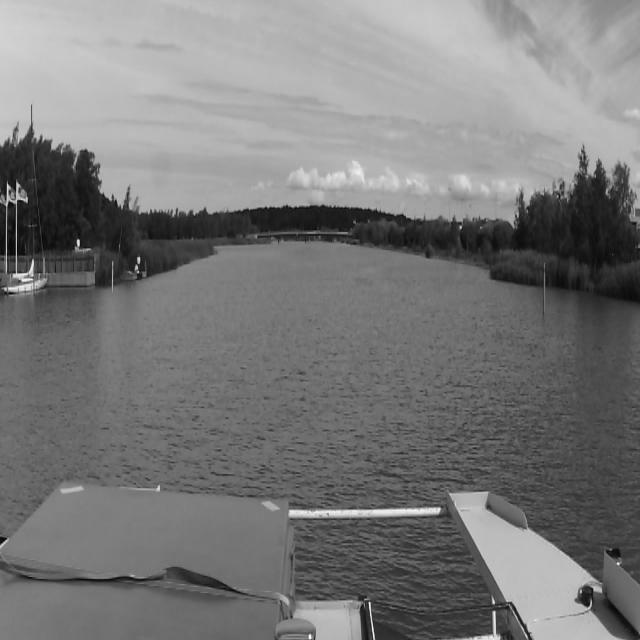buoy: (542, 262, 546, 314), (111, 260, 114, 292)
ship: (4, 103, 48, 296)
